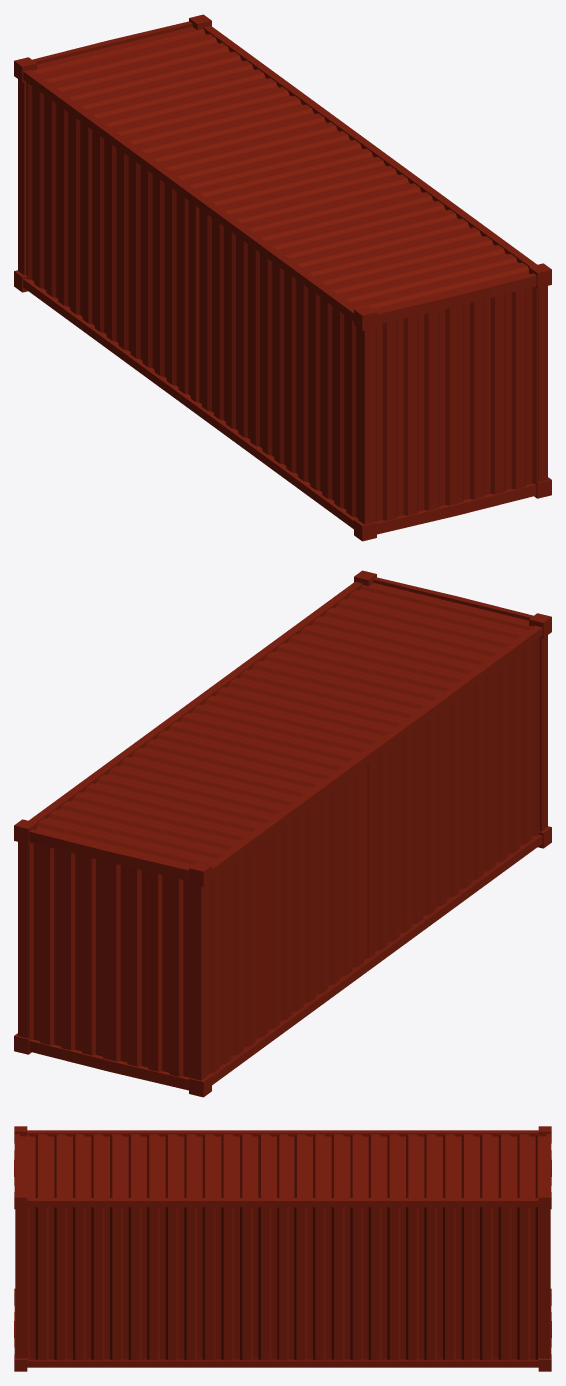
Rendered from cargoRedLP.glb.
3 views of the same model, one above another, from view 1: azimuth 30°, elevation 25°; view 2: azimuth 150°, elevation 25°; view 3: azimuth 270°, elevation 25° (orthographic). The views are drawn at different scales.
Visible parts, largest first — view 1: 030.002; view 2: 030.002; view 3: 030.002.
Part boxes in pixels (left/top/right/bottom): 030.002: left=14, top=14, right=551, bottom=541; 030.002: left=14, top=570, right=551, bottom=1097; 030.002: left=14, top=1126, right=551, bottom=1371.
Bounding box in the file's own units: 2.22 × 2.53 × 7.07.
Materials: 1 (1 with a texture image).
